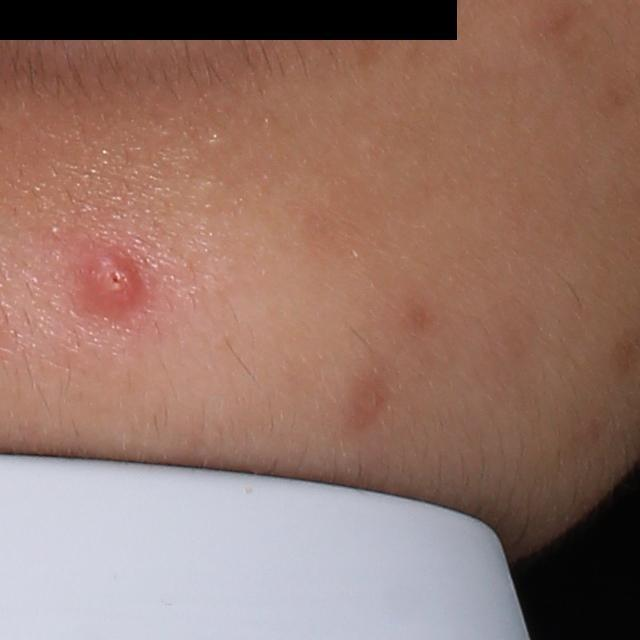papule: (78, 245, 142, 307)
